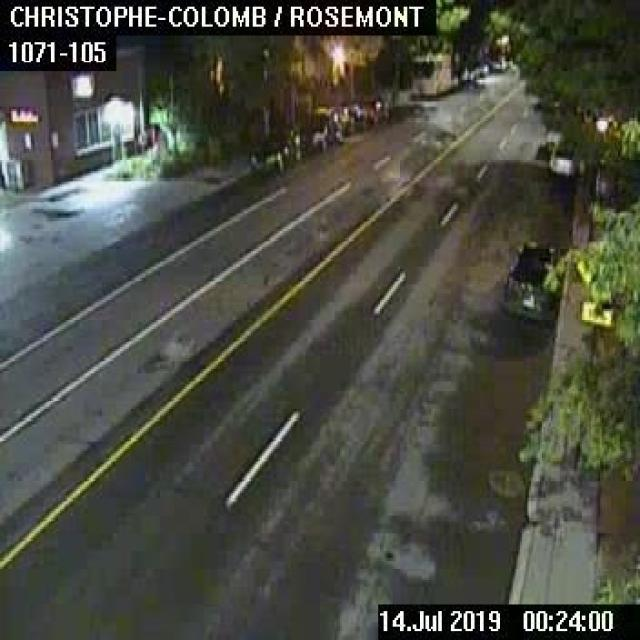vehicle: (502, 241, 560, 322), (248, 124, 299, 173), (294, 102, 340, 149), (410, 50, 448, 96), (548, 139, 574, 173)
